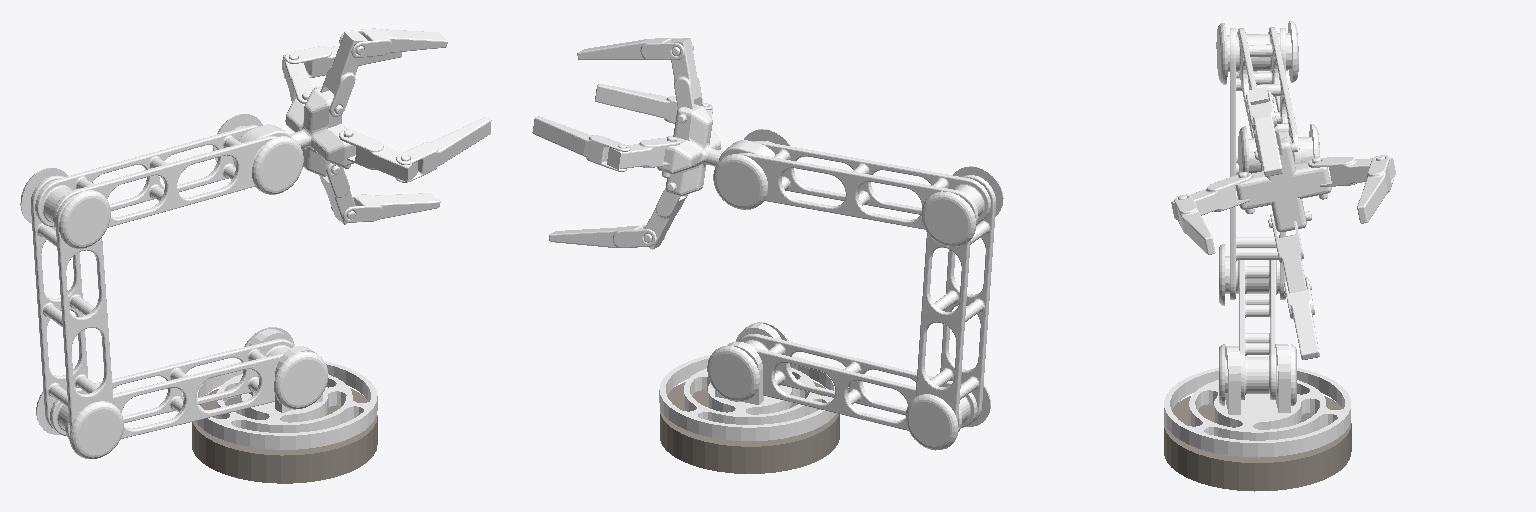
--- What the picture shows (computed from the rendered views, not written in the file) ---
Views: 3 orthographic renders of the robot side by side, from view 1: azimuth 30°, elevation 25°; view 2: azimuth 150°, elevation 25°; view 3: azimuth 270°, elevation 25°.
Robot: big_arm_servos — 16 links, 15 joints (13 revolute, 1 continuous, 1 fixed); root link world; default pose: all joints at 0.
Visible links, largest first — view 1: link_4, link_2, link_1, link_3, base_link, link_6, grip_4b, grip_3b, grip_1b, grip_1, grip_4, grip_2b (+2 smaller); view 2: link_4, link_2, link_1, link_3, base_link, link_6, grip_2b, grip_3b, grip_4b, grip_1b, grip_1, grip_2 (+2 smaller); view 3: link_1, base_link, link_4, link_2, link_6, link_3, grip_1b, grip_3b, grip_4, grip_2, grip_3, grip_2b (+1 smaller).
Link boxes in pixels (box(x1,y1,x2,y2)): link_4: box(20, 114, 303, 248); link_2: box(36, 327, 327, 458); link_1: box(195, 329, 377, 449); link_3: box(31, 175, 113, 429); base_link: box(192, 388, 377, 483); link_6: box(285, 86, 355, 176); grip_4b: box(396, 117, 491, 182); grip_3b: box(331, 193, 440, 222); grip_1b: box(339, 28, 447, 57); grip_1: box(320, 32, 367, 116); grip_4: box(339, 129, 417, 182); grip_2b: box(284, 46, 401, 77); link_4: box(713, 129, 1003, 246); link_2: box(707, 322, 990, 450); link_1: box(659, 323, 836, 440); link_3: box(916, 175, 995, 422); base_link: box(660, 381, 839, 473); link_6: box(657, 104, 722, 195); grip_2b: box(532, 116, 630, 171); grip_3b: box(549, 225, 665, 247); grip_4b: box(595, 84, 712, 123); grip_1b: box(577, 38, 693, 59); grip_1: box(669, 38, 703, 108); grip_2: box(607, 137, 679, 171); link_1: box(1164, 344, 1350, 457); base_link: box(1164, 396, 1351, 491); link_4: box(1216, 21, 1319, 173); link_2: box(1219, 244, 1296, 405); link_6: box(1235, 137, 1331, 231); link_3: box(1230, 28, 1285, 299); grip_1b: box(1246, 90, 1282, 176); grip_3b: box(1284, 277, 1319, 359); grip_4: box(1171, 172, 1252, 220); grip_2: box(1308, 156, 1395, 186); grip_3: box(1270, 214, 1311, 295); grip_2b: box(1357, 155, 1393, 223).
Bounding box of the posed robot: 0.7996 × 0.3713 × 0.6991 m (x, y, z).
15 mesh visuals loaded from 15 distinct referenced files (15 binary STL).

robot.urdf — big_arm_servos:
<?xml version="1.0" encoding="utf-8"?>
<!-- This URDF was automatically created by SolidWorks to URDF Exporter! Originally created by Stephen Brawner ([email redacted]) 
     Commit Version: 1.5.1-0-g916b5db  Build Version: 1.5.7152.31018
     For more information, please see http://wiki.ros.org/sw_urdf_exporter -->
<robot
  name="big_arm_servos">
  <link
    name="base_link">
    <inertial>
      <origin
        xyz="5.10334886736748E-36 -1.54939116262366E-18 0.0248239436619718"
        rpy="0 0 0" />
      <mass
        value="2.4419917555561" />
      <inertia
        ixx="0.150370490434844"
        ixy="-8.31151180314476E-36"
        ixz="-1.89588324363783E-34"
        iyy="0.150370490434844"
        iyz="8.4912872199433E-18"
        izz="0.290141728163054" />
    </inertial>
    <visual>
      <origin
        xyz="0 0 0"
        rpy="0 0 0" />
      <geometry>
        <mesh
          filename="package://robot/meshes/base_link.STL" />
      </geometry>
      <material
        name="">
        <color
          rgba="0.647058823529412 0.619607843137255 0.588235294117647 1" />
      </material>
    </visual>
    <collision>
      <origin
        xyz="0 0 0"
        rpy="0 0 0" />
      <geometry>
        <mesh
          filename="package://robot/meshes/base_link.STL" />
      </geometry>
    </collision>
  </link>

  <link name="world"/>
  <joint name="world_joint" type="fixed">
    <parent link="world" />
    <child link = "base_link" />
    <origin xyz="0.0 0.0 0.0" rpy="0.0 0.0 0.0" />
  </joint>


  <link
    name="link_1">
    <inertial>
      <origin
        xyz="-6.72935833564308E-17 5.41722740362335E-16 0.0562858835388927"
        rpy="0 0 0" />
      <mass
        value="2.24036308689963" />
      <inertia
        ixx="0.00602313752636761"
        ixy="2.1208125474502E-05"
        ixz="-1.04263858784396E-18"
        iyy="0.00579248437417585"
        iyz="-5.09141599596496E-19"
        izz="0.0098329939500295" />
    </inertial>
    <visual>
      <origin
        xyz="0 0 0"
        rpy="0 0 0" />
      <geometry>
        <mesh
          filename="package://robot/meshes/link_1.STL" />
      </geometry>
      <material
        name="">
        <color
          rgba="1 1 1 0.32" />
      </material>
    </visual>
    <collision>
      <origin
        xyz="0 0 0"
        rpy="0 0 0" />
      <geometry>
        <mesh
          filename="package://robot/meshes/link_1.STL" />
      </geometry>
    </collision>
  </link>
  <joint
    name="joint_base_1"
    type="continuous">
    <origin
      xyz="0 0 0.025"
      rpy="0 0 0" />
    <parent
      link="base_link" />
    <child
      link="link_1" />
    <axis
      xyz="0 0 1" />
    <limit
      lower="-3.14159"
      upper="3.14159"
      effort="10000"
      velocity="10" />
    <dynamics
      damping="0.3"
      friction="0.3" />
  </joint>
  <link
    name="link_2">
    <inertial>
      <origin
        xyz="0.19 3.7470027081099E-16 -3.12389003553903E-16"
        rpy="0 0 0" />
      <mass
        value="1.38058358126134" />
      <inertia
        ixx="0.00248849839246422"
        ixy="5.07965658468404E-18"
        ixz="-3.90312782094782E-18"
        iyy="0.0437476242743762"
        iyz="-8.67361737988404E-19"
        izz="0.0425687229272136" />
    </inertial>
    <visual>
      <origin
        xyz="0 0 0"
        rpy="0 0 0" />
      <geometry>
        <mesh
          filename="package://robot/meshes/link_2.STL" />
      </geometry>
      <material
        name="">
        <color
          rgba="1 1 1 0.32" />
      </material>
    </visual>
    <collision>
      <origin
        xyz="0 0 0"
        rpy="0 0 0" />
      <geometry>
        <mesh
          filename="package://robot/meshes/link_2.STL" />
      </geometry>
    </collision>
  </link>
  <joint
    name="joint_12"
    type="revolute">
    <!--origin
      xyz="0 0 0.11"
      rpy="-1.5708 -0.95024 -3.0507" /-->
    <origin
      xyz="0 0 0.11"
      rpy="-1.5708 0 -3.14159" />
    <parent
      link="link_1" />
    <child
      link="link_2" />
    <axis
      xyz="0 0 1" />
    <limit
      lower="-3.14159"
      upper="3.14159"
      effort="10000"
      velocity="10" />
    <dynamics
      damping="0.1"
      friction="0.1" />
  </joint>
  <link
    name="link_3">
    <inertial>
      <origin
        xyz="0.190000000000009 1.0991207943789E-14 2.35922392732846E-16"
        rpy="0 0 0" />
      <mass
        value="0.492773406896242" />
      <inertia
        ixx="0.000993126064016739"
        ixy="-1.98629226131133E-19"
        ixz="-1.47383732822248E-18"
        iyy="0.00882828983439309"
        iyz="-3.79470760369927E-19"
        izz="0.00857639886635598" />
    </inertial>
    <visual>
      <origin
        xyz="0 0 0"
        rpy="0 0 0" />
      <geometry>
        <mesh
          filename="package://robot/meshes/link_3.STL" />
      </geometry>
      <material
        name="">
        <color
          rgba="1 1 1 0.32" />
      </material>
    </visual>
    <collision>
      <origin
        xyz="0 0 0"
        rpy="0 0 0" />
      <geometry>
        <mesh
          filename="package://robot/meshes/link_3.STL" />
      </geometry>
    </collision>
  </link>
  <joint
    name="joint_23"
    type="revolute">
    <!--origin
      xyz="0.38 0 0"
      rpy="0 0 -1.207" /-->
    <origin
      xyz="0.38 0 0"
      rpy="0 0 -1.5" />
    <parent
      link="link_2" />
    <child
      link="link_3" />
    <axis
      xyz="0 0 1" />
    <limit
      lower="-3.14159"
      upper="3.14159"
      effort="1000"
      velocity="10" />
    <dynamics
      damping="0.1"
      friction="0.1" />
  </joint>
  <link
    name="link_4">
    <inertial>
      <!--origin
        xyz="0.188502975963012 -0.0164677703024454 -0.0171883854493124"
        rpy="0 0 0" /-->
      <origin
        xyz="0.188502975963012 -0.0164677703024454 -0.0171883854493124"
        rpy="0 0 0" />
      <mass
        value="1.38058358126134" />
      <inertia
        ixx="0.00312638334029432"
        ixy="0.00354785475887284"
        ixz="0.00359649566474575"
        iyy="0.0434376808533928"
        iyz="-0.000323506272525106"
        izz="0.0422407814003671" />
    </inertial>
    <visual>
      <origin
        xyz="0 0 0"
        rpy="0 0 0" />
      <geometry>
        <mesh
          filename="package://robot/meshes/link_4.STL" />
      </geometry>
      <material
        name="">
        <color
          rgba="1 1 1 0.32" />
      </material>
    </visual>
    <collision>
      <origin
        xyz="0 0 0"
        rpy="0 0 0" />
      <geometry>
        <mesh
          filename="package://robot/meshes/link_4.STL" />
      </geometry>
    </collision>
  </link>
  <joint
    name="joint_34"
    type="revolute">
    <!--origin
      xyz="0.38 0 0"
      rpy="0 -0.090932 -0.98436" /-->
    <origin
      xyz="0.38 0 0"
      rpy="0 0 -1.57079" />
    <parent
      link="link_3" />
    <child
      link="link_4" />
    <axis
      xyz="0 0 1" />
    <limit
      lower="0"
      upper="6.183"
      effort="1000"
      velocity="10" />
    <dynamics
      damping="0.1"
      friction="0.1" />
  </joint>
  <link
    name="link_5">
    <inertial>
    <!--origin
        xyz="-0.0141429450104605 7.53233908579176E-08 0.00199995138060591"
        rpy="0 0 0" /-->
      <origin
        xyz="-0.0141429450104605 7.53233908579176E-08 0.00199995138060591"
        rpy="0 0 0" />
      <mass
        value="0.130378439395373" />
      <inertia
        ixx="9.85693744749924E-05"
        ixy="-2.23559602004266E-09"
        ixz="-7.5663588800688E-11"
        iyy="0.000116973092049288"
        iyz="5.32702014819344E-11"
        izz="0.0001866513337855" />
    </inertial>
    <visual>
      <origin
        xyz="0 0 0"
        rpy="0 0 0" />
      <geometry>
        <mesh
          filename="package://robot/meshes/link_5.STL" />
      </geometry>
      <material
        name="">
        <color
          rgba="1 1 1 0.32" />
      </material>
    </visual>
    <collision>
      <origin
        xyz="0 0 0"
        rpy="0 0 0" />
      <geometry>
        <mesh
          filename="package://robot/meshes/link_5.STL" />
      </geometry>
    </collision>
  </link>
  <joint
    name="joint_45"
    type="revolute">
    <origin
      xyz="0.37701 -0.032936 -0.034377"
      rpy="0 -0.066036 3.14159" />
    <!--origin
      xyz="0.37701 -0.032936 -0.034377"
      rpy="0.062559 -0.066036 2.3822" /-->
    <parent
      link="link_4" />
    <child
      link="link_5" />
    <axis
      xyz="0 0 1" />
    <limit
      lower="0"
      upper="6.183"
      effort="1000"
      velocity="10" />
    <dynamics
      damping="0.1"
      friction="0.1" />
  </joint>
  <link
    name="link_6">
    <inertial>
      <origin
        xyz="-4.97039481107964E-07 2.63088229068842E-06 0.0786774570131245"
        rpy="0 0 0" />
      <mass
        value="0.665759903912911" />
      <inertia
        ixx="0.000952789706275326"
        ixy="-1.38154320697555E-08"
        ixz="-8.31042935225815E-10"
        iyy="0.00095286060074004"
        iyz="4.52211814098408E-09"
        izz="0.00141997991990691" />
    </inertial>
    <visual>
      <origin
        xyz="0 0 0"
        rpy="0 0 0" />
      <geometry>
        <mesh
          filename="package://robot/meshes/link_6.STL" />
      </geometry>
      <material
        name="">
        <color
          rgba="1 1 1 0.32" />
      </material>
    </visual>
    <collision>
      <origin
        xyz="0 0 0"
        rpy="0 0 0" />
      <geometry>
        <mesh
          filename="package://robot/meshes/link_6.STL" />
      </geometry>
    </collision>
  </link>
  <joint
    name="joint_56"
    type="revolute">
    <origin
      xyz="-0.04 0 0.002"
      rpy="-2.3654 1.5708 0.77614" />
    <parent
      link="link_5" />
    <child
      link="link_6" />
    <axis
      xyz="0 0 1" />
    <limit
      lower="0"
      upper="6.183"
      effort="1000"
      velocity="10" />
    <dynamics
      damping="0.1"
      friction="0.1" />
  </joint>
  <link
    name="grip_1">
    <inertial>
      <origin
        xyz="0.0674233348638277 -0.00149730770397288 0.00988726780355913"
        rpy="0 0 0" />
      <mass
        value="0.11992363568227" />
      <inertia
        ixx="2.32996122881845E-05"
        ixy="-3.6096640394024E-12"
        ixz="4.42085269022021E-13"
        iyy="0.000147857015499886"
        iyz="8.71359919641666E-07"
        izz="0.000142235051121448" />
    </inertial>
    <visual>
      <origin
        xyz="0 0 0"
        rpy="0 0 0" />
      <geometry>
        <mesh
          filename="package://robot/meshes/grip_1.STL" />
      </geometry>
      <material
        name="">
        <color
          rgba="1 1 1 0.32" />
      </material>
    </visual>
    <collision>
      <origin
        xyz="0 0 0"
        rpy="0 0 0" />
      <geometry>
        <mesh
          filename="package://robot/meshes/grip_1.STL" />
      </geometry>
    </collision>
  </link>
  <joint
    name="joint_6_g1"
    type="revolute">
    <origin
      xyz="-0.011072 0.05897 0.091"
      rpy="-1.7211 -0.33932 1.7564" />
    <parent
      link="link_6" />
    <child
      link="grip_1" />
    <axis
      xyz="0 0 1" />
    <limit
      lower="0"
      upper="0"
      effort="1000"
      velocity="10" />
  </joint>
  <link
    name="grip_1b">
    <inertial>
      <origin
        xyz="0.0843265899344989 -0.00212380310637394 0.0099999996377477"
        rpy="0 0 0" />
      <mass
        value="0.141643537240913" />
      <inertia
        ixx="2.42692219268835E-05"
        ixy="1.63887843182053E-05"
        ixz="7.78137406188141E-12"
        iyy="0.000336749313354746"
        iyz="-5.98415142376405E-12"
        izz="0.000330285690314077" />
    </inertial>
    <visual>
      <origin
        xyz="0 0 0"
        rpy="0 0 0" />
      <geometry>
        <mesh
          filename="package://robot/meshes/grip_1b.STL" />
      </geometry>
      <material
        name="">
        <color
          rgba="1 1 1 0.32" />
      </material>
    </visual>
    <collision>
      <origin
        xyz="0 0 0"
        rpy="0 0 0" />
      <geometry>
        <mesh
          filename="package://robot/meshes/grip_1b.STL" />
      </geometry>
    </collision>
  </link>
  <joint
    name="joint_grip_1b"
    type="revolute">
    <origin
      xyz="0.11 0 0"
      rpy="0.011605 0.14985 -1.4932" />
    <parent
      link="grip_1" />
    <child
      link="grip_1b" />
    <axis
      xyz="0 0 1" />
    <limit
      lower="0"
      upper="0"
      effort="1000"
      velocity="10" />
  </joint>
  <link
    name="grip_2">
    <inertial>
      <origin
        xyz="0.0659446867940136 -0.0140429541455789 0.0100000004099546"
        rpy="0 0 0" />
      <mass
        value="0.119923642785374" />
      <inertia
        ixx="2.87087256812529E-05"
        ixy="2.54007949129357E-05"
        ixz="-6.35189378224036E-13"
        iyy="0.000142579853996741"
        iyz="-2.45328437956385E-12"
        izz="0.000142103089158568" />
    </inertial>
    <visual>
      <origin
        xyz="0 0 0"
        rpy="0 0 0" />
      <geometry>
        <mesh
          filename="package://robot/meshes/grip_2.STL" />
      </geometry>
      <material
        name="">
        <color
          rgba="1 1 1 0.32" />
      </material>
    </visual>
    <collision>
      <origin
        xyz="0 0 0"
        rpy="0 0 0" />
      <geometry>
        <mesh
          filename="package://robot/meshes/grip_2.STL" />
      </geometry>
    </collision>
  </link>
  <joint
    name="joint_6_g2"
    type="revolute">
    <origin
      xyz="0.05897 0.011072 0.091"
      rpy="-1.5708 -0.19278 0.1856" />
    <parent
      link="link_6" />
    <child
      link="grip_2" />
    <axis
      xyz="0 0 1" />
    <limit
      lower="0"
      upper="0"
      effort="1000"
      velocity="10" />
  </joint>
  <link
    name="grip_2b">
    <inertial>
      <origin
        xyz="0.0843265865207311 -0.00212380179885391 0.00999999957992204"
        rpy="0 0 0" />
      <mass
        value="0.141643614685743" />
      <inertia
        ixx="2.42692404977318E-05"
        ixy="1.63887852150154E-05"
        ixz="-1.45187447117269E-13"
        iyy="0.000336749419639376"
        iyz="-4.62085035355829E-12"
        izz="0.000330285797805327" />
    </inertial>
    <visual>
      <origin
        xyz="0 0 0"
        rpy="0 0 0" />
      <geometry>
        <mesh
          filename="package://robot/meshes/grip_2b.STL" />
      </geometry>
      <material
        name="">
        <color
          rgba="1 1 1 0.32" />
      </material>
    </visual>
    <collision>
      <origin
        xyz="0 0 0"
        rpy="0 0 0" />
      <geometry>
        <mesh
          filename="package://robot/meshes/grip_2b.STL" />
      </geometry>
    </collision>
  </link>
  <joint
    name="joint_grip_2b"
    type="revolute">
    <origin
      xyz="0.10759 -0.022911 0"
      rpy="0 0 -1.5817" />
    <parent
      link="grip_2" />
    <child
      link="grip_2b" />
    <axis
      xyz="0 0 1" />
    <limit
      lower="0"
      upper="0"
      effort="1000"
      velocity="10" />
  </joint>
  <link
    name="grip_3">
    <inertial>
      <origin
        xyz="0.0674233349821467 -0.000216683054989369 -0.00999765235365951"
        rpy="0 0 0" />
      <mass
        value="0.119923637058051" />
      <inertia
        ixx="2.32996122767126E-05"
        ixy="-3.01255348785664E-12"
        ixz="1.15039704239531E-12"
        iyy="0.0001479862078452"
        iyz="-1.27510854779785E-07"
        izz="0.000142105857428452" />
    </inertial>
    <visual>
      <origin
        xyz="0 0 0"
        rpy="0 0 0" />
      <geometry>
        <mesh
          filename="package://robot/meshes/grip_3.STL" />
      </geometry>
      <material
        name="">
        <color
          rgba="1 1 1 0.32" />
      </material>
    </visual>
    <collision>
      <origin
        xyz="0 0 0"
        rpy="0 0 0" />
      <geometry>
        <mesh
          filename="package://robot/meshes/grip_3.STL" />
      </geometry>
    </collision>
  </link>
  <joint
    name="joint_6_g3"
    type="revolute">
    <origin
      xyz="0.011072 -0.05897 0.091"
      rpy="-1.5491 -0.33932 -1.3852" />
    <parent
      link="link_6" />
    <child
      link="grip_3" />
    <axis
      xyz="0 0 1" />
    <limit
      lower="0"
      upper="0"
      effort="1000"
      velocity="10" />
  </joint>
  <link
    name="grip_3b">
    <inertial>
      <origin
        xyz="0.0843265835470308 -0.00212380359506137 -0.0100000017555446"
        rpy="0 0 0" />
      <mass
        value="0.141643615845273" />
      <inertia
        ixx="2.42692401970422E-05"
        ixy="1.6388779687381E-05"
        ixz="-2.83700056075674E-12"
        iyy="0.000336749373130495"
        iyz="-7.01396464170066E-12"
        izz="0.000330285749652679" />
    </inertial>
    <visual>
      <origin
        xyz="0 0 0"
        rpy="0 0 0" />
      <geometry>
        <mesh
          filename="package://robot/meshes/grip_3b.STL" />
      </geometry>
      <material
        name="">
        <color
          rgba="1 1 1 0.32" />
      </material>
    </visual>
    <collision>
      <origin
        xyz="0 0 0"
        rpy="0 0 0" />
      <geometry>
        <mesh
          filename="package://robot/meshes/grip_3b.STL" />
      </geometry>
    </collision>
  </link>
  <joint
    name="joint_grip_3b"
    type="revolute">
    <origin
      xyz="0.11 0 0"
      rpy="-0.013124 -0.017244 -0.9202" />
    <parent
      link="grip_3" />
    <child
      link="grip_3b" />
    <axis
      xyz="0 0 1" />
    <limit
      lower="0"
      upper="0"
      effort="1000"
      velocity="10" />
  </joint>
  <link
    name="grip_4">
    <inertial>
      <origin
        xyz="0.0674233355383608 -1.42527756957778E-09 0.0100000001980208"
        rpy="0 0 0" />
      <mass
        value="0.119923640551901" />
      <inertia
        ixx="2.32996121229523E-05"
        ixy="3.46372397723362E-12"
        ixz="-8.87942195128388E-13"
        iyy="0.000147988969529785"
        iyz="-2.64203844349206E-12"
        izz="0.000142103091352165" />
    </inertial>
    <visual>
      <origin
        xyz="0 0 0"
        rpy="0 0 0" />
      <geometry>
        <mesh
          filename="package://robot/meshes/grip_4.STL" />
      </geometry>
      <material
        name="">
        <color
          rgba="1 1 1 0.32" />
      </material>
    </visual>
    <collision>
      <origin
        xyz="0 0 0"
        rpy="0 0 0" />
      <geometry>
        <mesh
          filename="package://robot/meshes/grip_4.STL" />
      </geometry>
    </collision>
  </link>
  <joint
    name="joint_6_g4"
    type="revolute">
    <origin
      xyz="-0.05897 -0.011072 0.091"
      rpy="1.5708 -0.4026 -2.956" />
    <parent
      link="link_6" />
    <child
      link="grip_4" />
    <axis
      xyz="0 0 1" />
    <limit
      lower="0"
      upper="0"
      effort="1000"
      velocity="10" />
  </joint>
  <link
    name="grip_4b">
    <inertial>
      <origin
        xyz="0.0843265859870006 -0.0021238019435485 -0.0100000004854647"
        rpy="0 0 0" />
      <mass
        value="0.141643613852148" />
      <inertia
        ixx="2.42692402907718E-05"
        ixy="1.63887841722403E-05"
        ixz="-6.86254961946683E-13"
        iyy="0.000336749412376889"
        iyz="-4.57853621959074E-12"
        izz="0.000330285790627453" />
    </inertial>
    <visual>
      <origin
        xyz="0 0 0"
        rpy="0 0 0" />
      <geometry>
        <mesh
          filename="package://robot/meshes/grip_4b.STL" />
      </geometry>
      <material
        name="">
        <color
          rgba="1 1 1 0.32" />
      </material>
    </visual>
    <collision>
      <origin
        xyz="0 0 0"
        rpy="0 0 0" />
      <geometry>
        <mesh
          filename="package://robot/meshes/grip_4b.STL" />
      </geometry>
    </collision>
  </link>
  <joint
    name="joint_grip_4b"
    type="revolute">
    <origin
      xyz="0.11 0 0"
      rpy="3.1416 0 1.2805" />
    <parent
      link="grip_4" />
    <child
      link="grip_4b" />
    <axis
      xyz="0 0 1" />
    <limit
      lower="0"
      upper="0"
      effort="1000"
      velocity="10" />
  </joint>

  <!-- GAZEBO REFERENCES FOR BODIES-->

   <!-- GAZEBO REFERENCES FOR BODIES-->

  <gazebo reference="base_link">
  <selfCollide>true</selfCollide>
    <mu1>0.1</mu1>
    <mu2>0.1</mu2>
    <kp>100000</kp>
    <kd>0.1</kd>
    <material>Gazebo/Orange</material>
  </gazebo>  

  <gazebo reference="link_1">
  <selfCollide>true</selfCollide>
    <mu1>0.1</mu1>
    <mu2>0.1</mu2>
    <kp>100000</kp>
    <kd>0.1</kd>
    <material>Gazebo/Orange</material>
  </gazebo> 

  <gazebo reference="link_2">
  <selfCollide>true</selfCollide>
    <mu1>0.1</mu1>
    <mu2>0.1</mu2>
    <kp>10000</kp>
    <kd>0.1</kd>
    <material>Gazebo/Orange</material>
  </gazebo> 

  <gazebo reference="link_3">
  <selfCollide>true</selfCollide>
    <mu1>0.1</mu1>
    <mu2>0.1</mu2>
    <kp>100000</kp>
    <kd>0.1</kd>
    <material>Gazebo/Orange</material>
  </gazebo> 

  <gazebo reference="link_4">
  <selfCollide>true</selfCollide>
    <mu1>0.1</mu1>
    <mu2>0.1</mu2>
    <kp>100000</kp>
    <kd>0.1</kd>
    <material>Gazebo/Orange</material>
  </gazebo> 

  <gazebo reference="link_5">
  <selfCollide>true</selfCollide>
    <mu1>0.1</mu1>
    <mu2>0.1</mu2>
    <kp>100000</kp>
    <kd>0.1</kd>
    <material>Gazebo/Orange</material>
  </gazebo> 

  <gazebo reference="link_6">
  <selfCollide>true</selfCollide>
    <mu1>0.1</mu1>
    <mu2>0.1</mu2>
    <kp>100000</kp>
    <kd>0.1</kd>
    <material>Gazebo/Orange</material>
  </gazebo> 

  <gazebo reference="grip_1">
  <selfCollide>true</selfCollide>
    <mu1>0.1</mu1>
    <mu2>0.1</mu2>
    <kp>100000</kp>
    <kd>1</kd>
    <material>Gazebo/Orange</material>
  </gazebo> 

  <gazebo reference="grip_1b">
  <selfCollide>true</selfCollide>
    <mu1>100</mu1>
    <mu2>100</mu2>
    <kp>100000</kp>
    <kd>1</kd>
    <material>Gazebo/Orange</material>
  </gazebo> 

  <gazebo reference="grip_2">
  <selfCollide>true</selfCollide>
    <mu1>100</mu1>
    <mu2>100</mu2>
    <kp>100000</kp>
    <kd>1</kd>
    <material>Gazebo/Orange</material>
  </gazebo> 

  <gazebo reference="grip_2b">
  <selfCollide>true</selfCollide>
    <mu1>100</mu1>
    <mu2>100</mu2>
    <kp>100000</kp>
    <kd>1</kd>
    <material>Gazebo/Orange</material>
  </gazebo> 

  <gazebo reference="grip_3">
  <selfCollide>true</selfCollide>
    <mu1>100</mu1>
    <mu2>100</mu2>
    <kp>100000</kp>
    <kd>1</kd>
    <material>Gazebo/Orange</material>
  </gazebo> 

  <gazebo reference="grip_3b">
  <selfCollide>true</selfCollide>
    <mu1>100</mu1>
    <mu2>100</mu2>
    <kp>100000000</kp>
    <kd>1</kd>
    <material>Gazebo/Orange</material>
  </gazebo>

  <gazebo reference="grip_4">
  <selfCollide>true</selfCollide>
    <mu1>100</mu1>
    <mu2>100</mu2>
    <kp>100000000</kp>
    <kd>100</kd>
    <material>Gazebo/Orange</material>
  </gazebo> 

  <gazebo reference="grip_4b">
  <selfCollide>true</selfCollide>
    <mu1>100</mu1>
    <mu2>100</mu2>
    <kp>100000000</kp>
    <kd>100</kd>
    <material>Gazebo/Orange</material>
  </gazebo> 

  <!-- ROS2 CONTROL -->
    <ros2_control name="GazeboSystem" type="system">
    <hardware>
      <plugin>gazebo_ros2_control/GazeboSystem</plugin>
    </hardware>    
    <joint name="joint_base_1">
      <command_interface name="position">
        <param name="min">-3.14159</param>
        <param name="max">3.14159</param>
      </command_interface>
      <state_interface name="position"/>
      <state_interface name="velocity"/>
      <state_interface name="effort"/>
    </joint>

    <joint name="joint_12">
      <command_interface name="position">
        <param name="min">-3.14159</param>
        <param name="max">3.14159</param>
      </command_interface>
      <state_interface name="position"/>
      <state_interface name="velocity"/>
      <state_interface name="effort"/>
    </joint>

    <joint name="joint_23">
      <command_interface name="position">
        <param name="min">-3.14159</param>
        <param name="max">3.14159</param>
      </command_interface>
      <state_interface name="position"/>
      <state_interface name="velocity"/>
      <state_interface name="effort"/>
    </joint>

    <joint name="joint_34">
      <command_interface name="position">
        <param name="min">-3.14159</param>
        <param name="max">3.14159</param>
      </command_interface>
      <state_interface name="position"/>
      <state_interface name="velocity"/>
      <state_interface name="effort"/>
    </joint>

    <joint name="joint_45">
      <command_interface name="position">
        <param name="min">-3.14159</param>
        <param name="max">3.14159</param>
      </command_interface>
      <state_interface name="position"/>
      <state_interface name="velocity"/>
      <state_interface name="effort"/>
    </joint>

    <joint name="joint_56">
      <command_interface name="position">
        <param name="min">-3.14159</param>
        <param name="max">3.14159</param>
      </command_interface>
      <state_interface name="position"/>
      <state_interface name="velocity"/>
      <state_interface name="effort"/>
    </joint>

    <joint name="joint_6_g1">
      <command_interface name="position">
        <param name="min">-3.14159</param>
        <param name="max">3.14159</param>
      </command_interface>
      <state_interface name="position"/>
      <state_interface name="velocity"/>
      <state_interface name="effort"/>
    </joint>

    <joint name="joint_6_g2">
      <command_interface name="position">
        <param name="min">-3.14159</param>
        <param name="max">3.14159</param>
      </command_interface>
      <state_interface name="position"/>
      <state_interface name="velocity"/>
      <state_interface name="effort"/>
    </joint>

    <joint name="joint_6_g3">
      <command_interface name="position">
        <param name="min">-3.14159</param>
        <param name="max">3.14159</param>
      </command_interface>
      <state_interface name="position"/>
      <state_interface name="velocity"/>
      <state_interface name="effort"/>
    </joint>

    <joint name="joint_6_g4">
      <command_interface name="position">
        <param name="min">-3.14159</param>
        <param name="max">3.14159</param>
      </command_interface>
      <state_interface name="position"/>
      <state_interface name="velocity"/>
      <state_interface name="effort"/>
    </joint>

    <joint name="joint_grip_1b">
      <command_interface name="position">
        <param name="min">-3.14159</param>
        <param name="max">3.14159</param>
      </command_interface>
      <state_interface name="position"/>
      <state_interface name="velocity"/>
      <state_interface name="effort"/>
    </joint>

    <joint name="joint_grip_2b">
      <command_interface name="position">
        <param name="min">-3.14159</param>
        <param name="max">3.14159</param>
      </command_interface>
      <state_interface name="position"/>
      <state_interface name="velocity"/>
      <state_interface name="effort"/>
    </joint>

    <joint name="joint_grip_3b">
      <command_interface name="position">
        <param name="min">-3.14159</param>
        <param name="max">3.14159</param>
      </command_interface>
      <state_interface name="position"/>
      <state_interface name="velocity"/>
      <state_interface name="effort"/>
    </joint>

    <joint name="joint_grip_4b">
      <command_interface name="position">
        <param name="min">-3.14159</param>
        <param name="max">3.14159</param>
      </command_interface>
      <state_interface name="position"/>
      <state_interface name="velocity"/>
      <state_interface name="effort"/>
    </joint>


  </ros2_control>
  
  
  
  
  <gazebo>
    <plugin filename="libgazebo_ros2_control.so" name="gazebo_ros2_control">
      <parameters>[local-path]/Mechatronics Projects/big_arm_ws/src/robot/config/pos_controller.yaml</parameters>
    </plugin>
  </gazebo>

  <!--Use Gazebo Joint State Publisher-->

  <!--gazebo>
    <plugin name="gazebo_ros_joint_state_publisher"
        filename="libgazebo_ros_joint_state_publisher.so">
        <update_rate>100</update_rate>
        <joint_name>joint_base_1</joint_name>
        <joint_name>joint_12</joint_name>
        <joint_name>joint_23</joint_name>
        <joint_name>joint_34</joint_name>
        <joint_name>joint_45</joint_name>
        <joint_name>joint_56</joint_name>
        <joint_name>joint_6_g1</joint_name>
        <joint_name>joint_6_g2</joint_name>
        <joint_name>joint_6_g3</joint_name>
        <joint_name>joint_6_g4</joint_name>
        <joint_name>joint_grip_1b</joint_name>
        <joint_name>joint_grip_2b</joint_name>
        <joint_name>joint_grip_3b</joint_name>
        <joint_name>joint_grip_4b</joint_name>

    </plugin>
  </gazebo-->
</robot>
